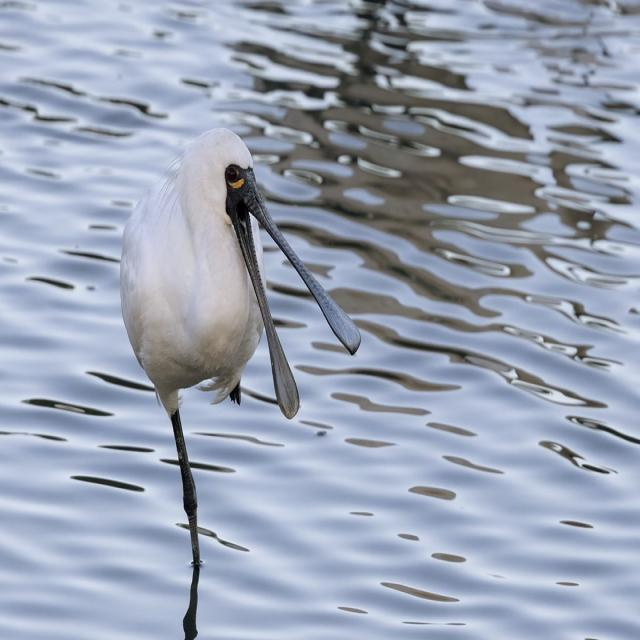Black-faced spoonbill: (121, 129, 360, 564)
